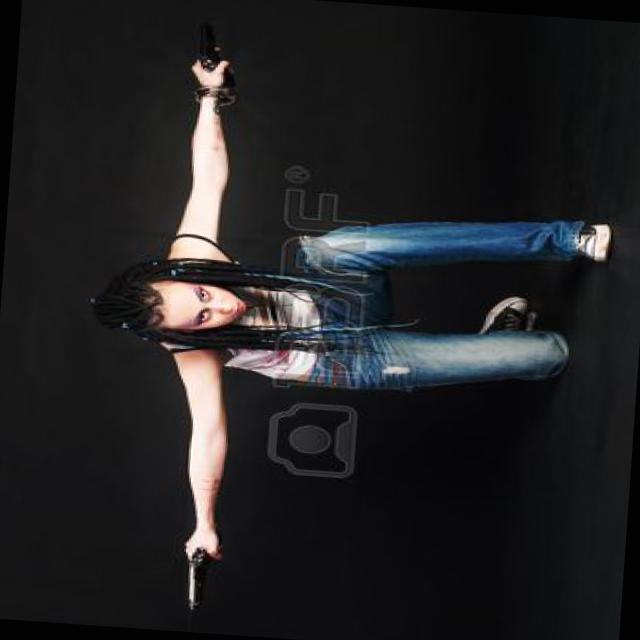handgun: (173, 6, 230, 90), (178, 536, 222, 610)
